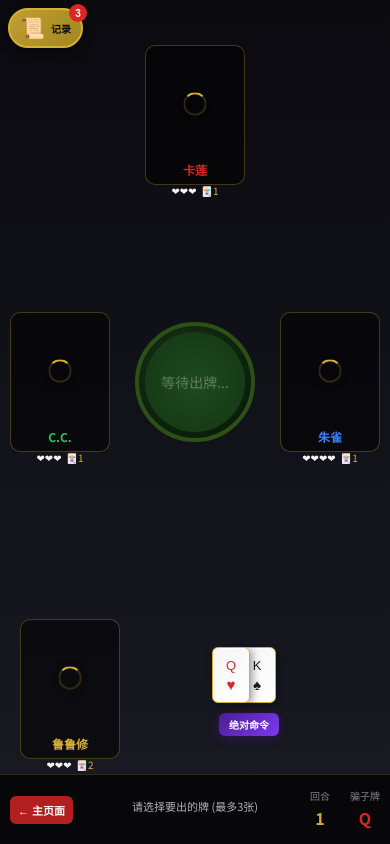
Scenario: 【UI测试】游戏记录按钮功能测试 › 【TC-BTN-002】按钮功能验证 › 2.1 点击按钮应展开游戏记录面板
This screenshot has width=390, height=844.
Click the button with class "cg-log-toggle-btn-top" at (46, 28), box [8,8,83,48]
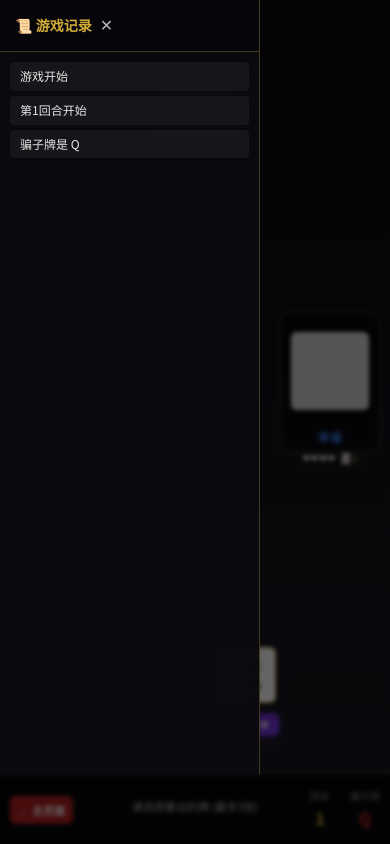
Now the element with class "expanded" showing "📜 游戏记录 ✕ 游戏开始 第1回合开始 骗子牌是 Q" is shown
